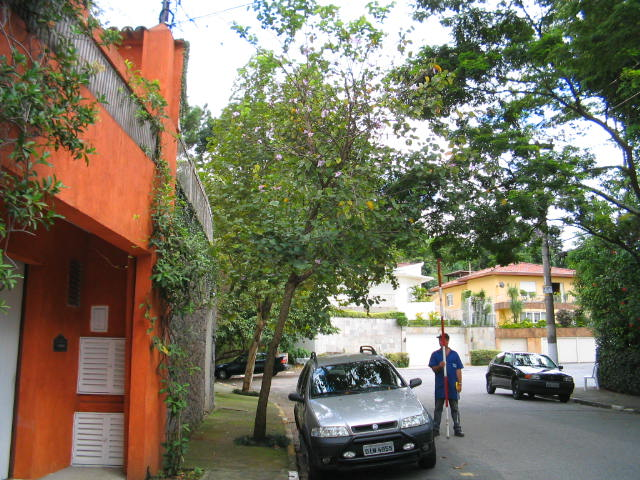crown: (204, 5, 457, 323)
stem: (248, 281, 298, 440)
stick: (431, 259, 453, 438)
tree: (202, 5, 459, 442)
